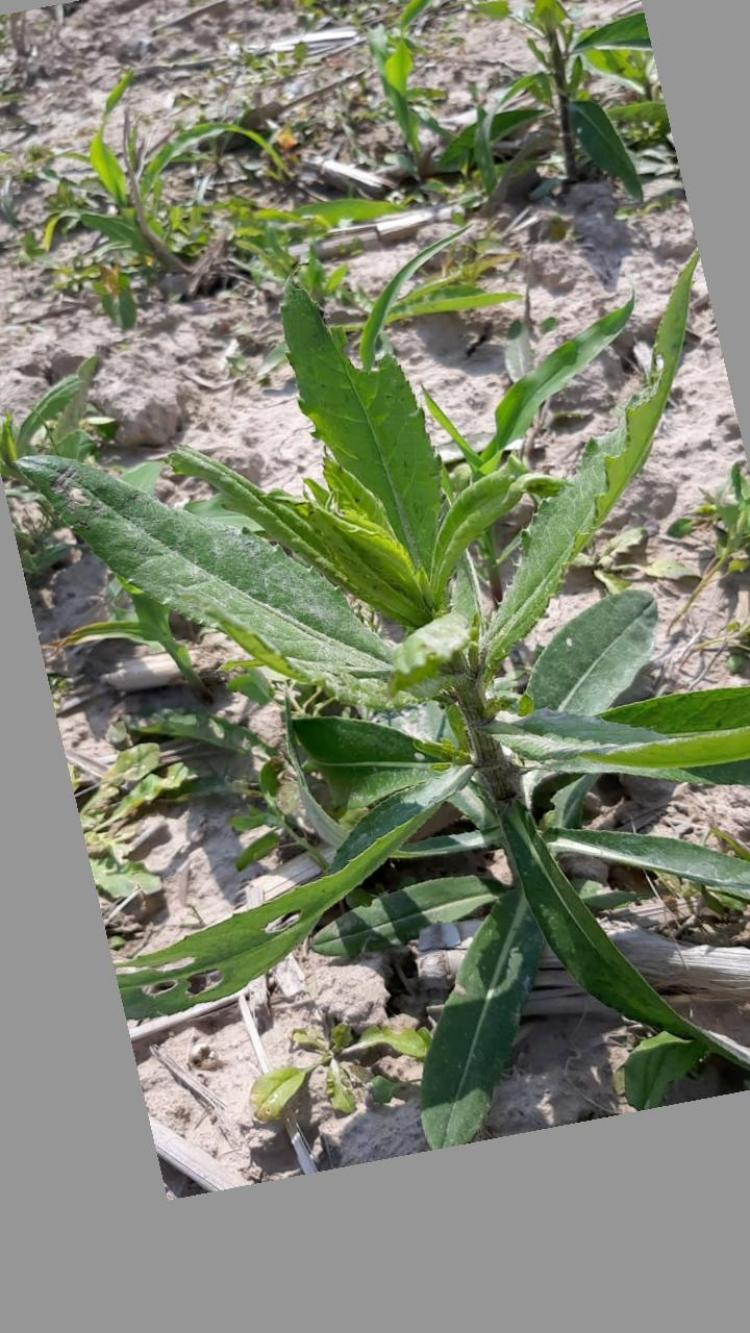osot: (48, 260, 750, 1150)
